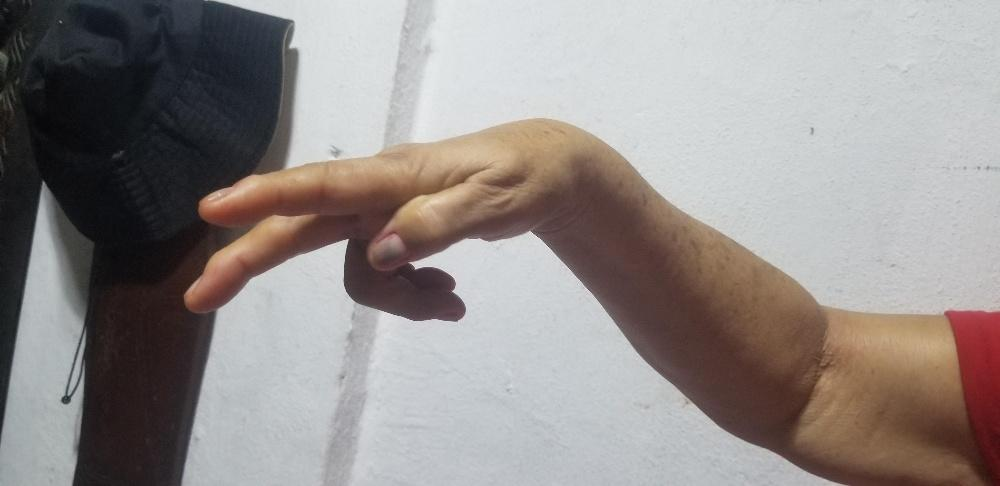p: (181, 116, 551, 322)
